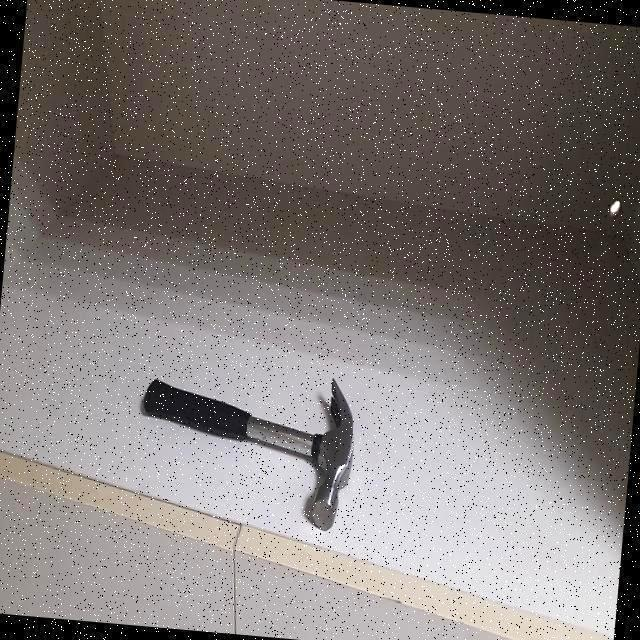hammer: (143, 368, 353, 532)
